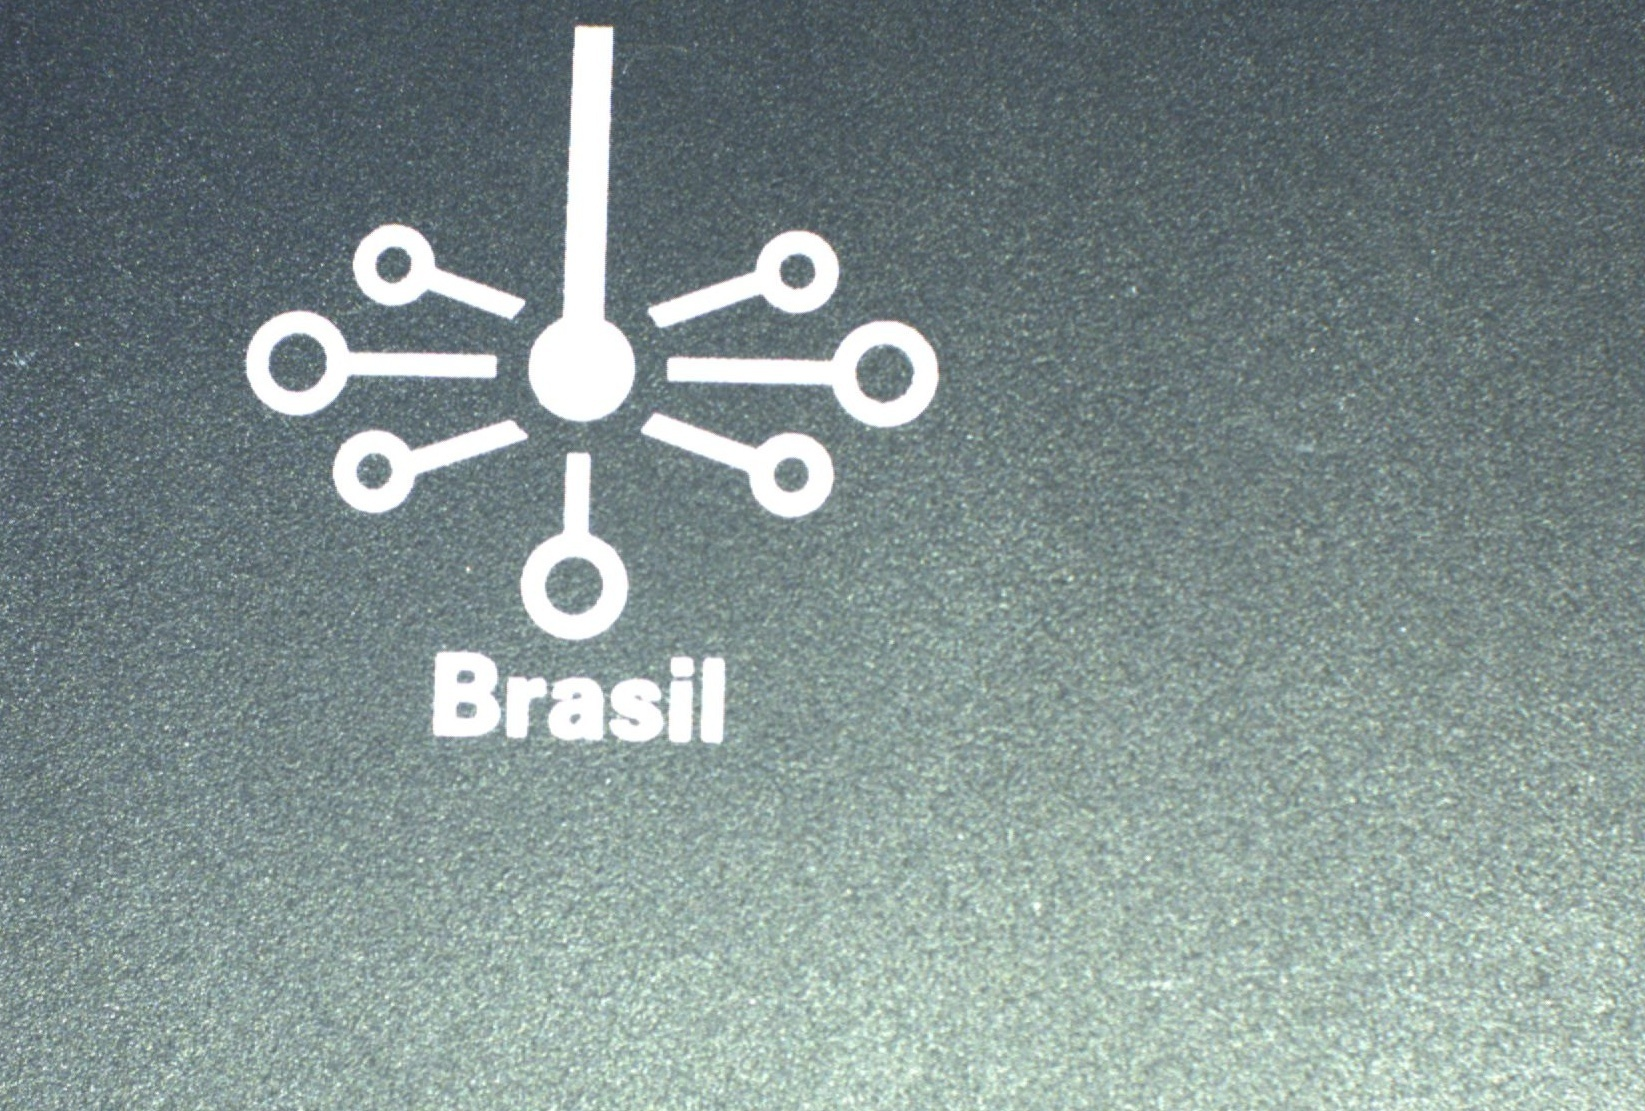BO_Brsail: (219, 20, 948, 763)
